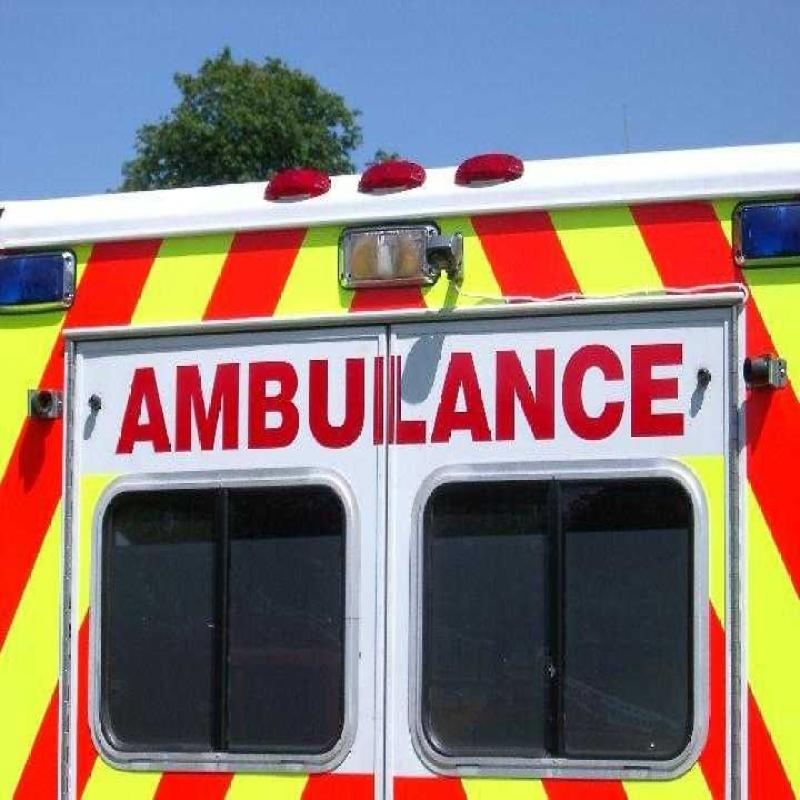AmbulanceSiren: (252, 139, 522, 258)
